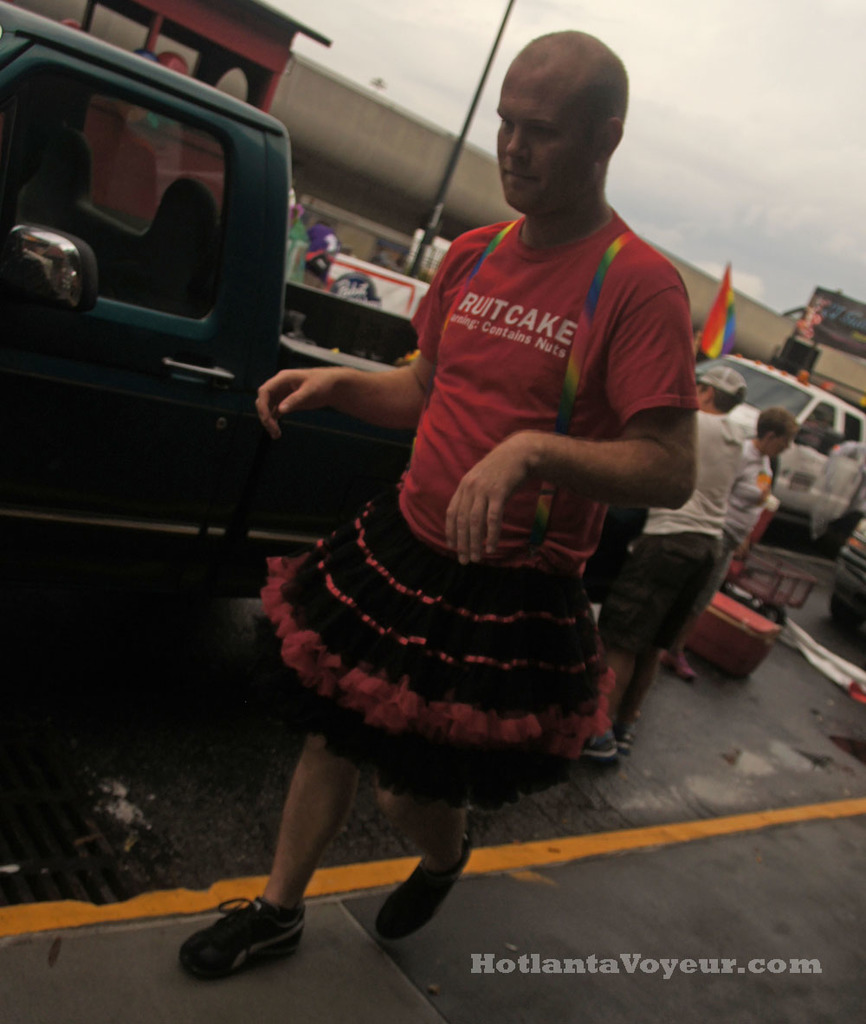Car: (696, 346, 865, 529)
